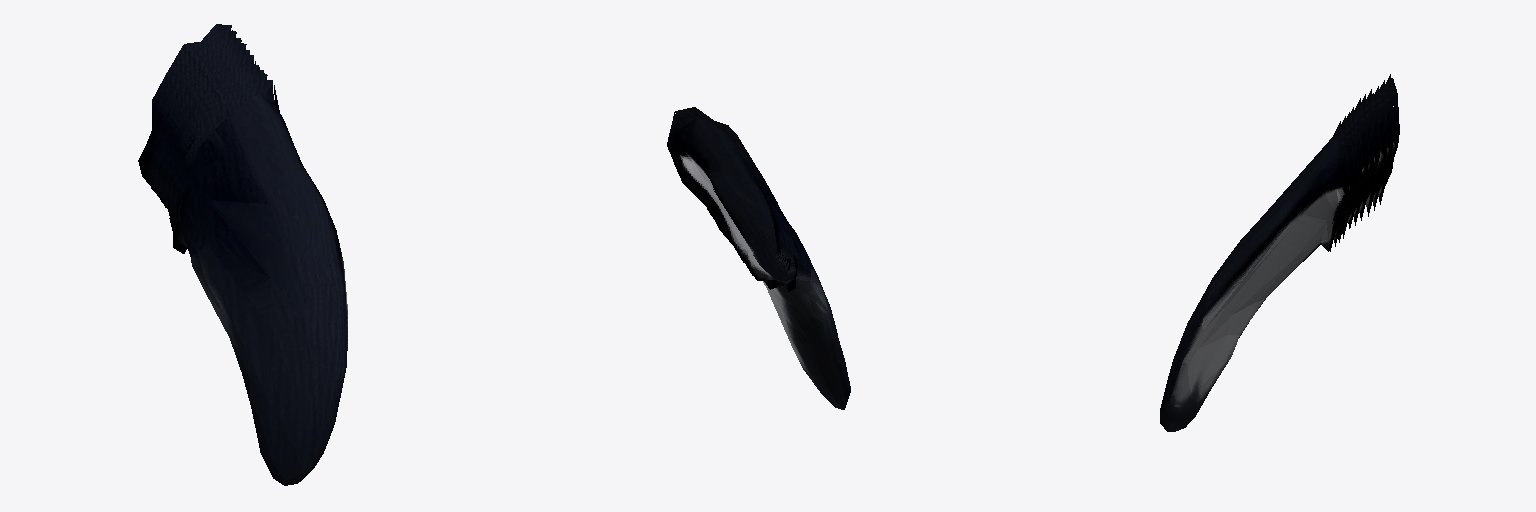
3 renders of one model, left to right at view 1: azimuth 30°, elevation 25°; view 2: azimuth 150°, elevation 25°; view 3: azimuth 270°, elevation 25°, orthographic.
Visible parts, largest first — view 1: arm1; view 2: arm1; view 3: arm1.
Part boxes in pixels (x1,y1,x2,y2): arm1: (138, 24, 347, 485); arm1: (667, 107, 850, 409); arm1: (1160, 74, 1399, 431).
Size of the model in its own units: 0.1312 by 0.3677 by 0.2144.
Materials: 1 (1 with a texture image).